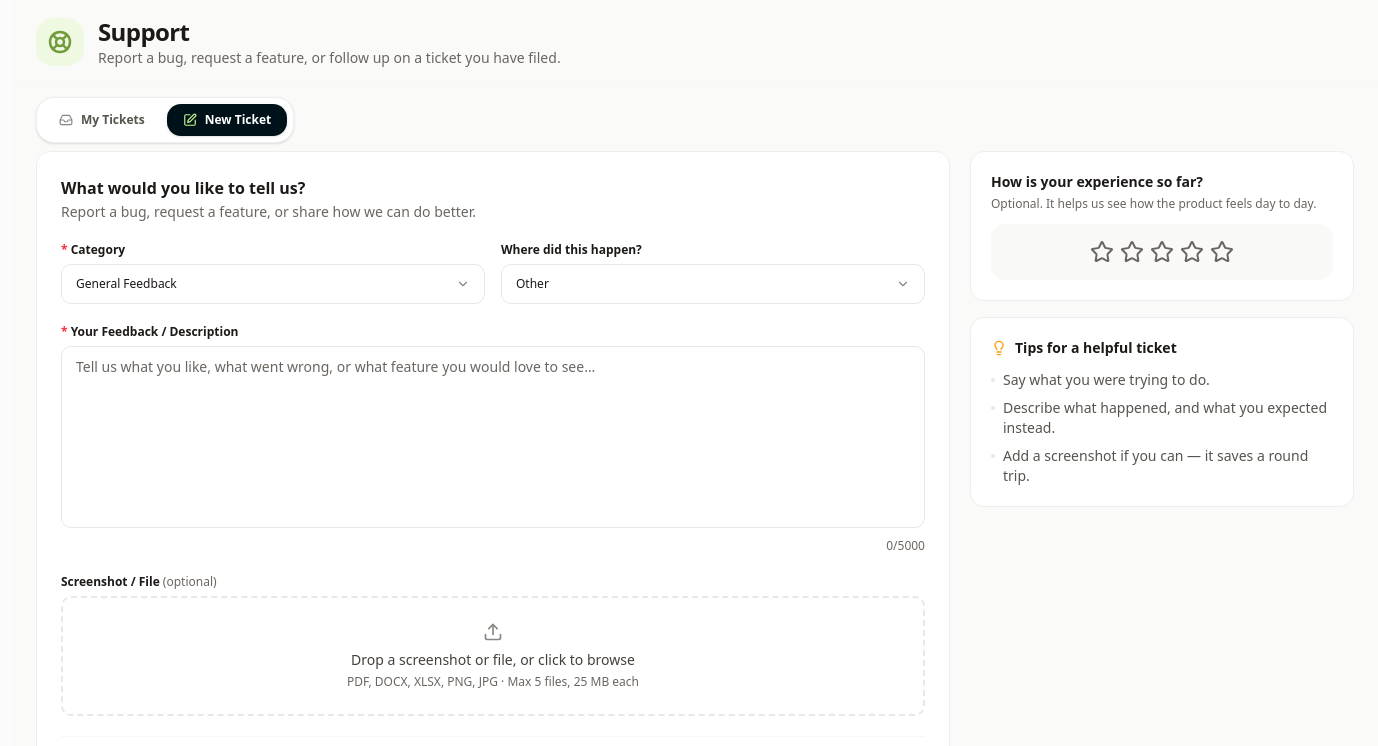
Test: SupportPage after filing a ticket › opens the ticket that was just filed
Type "Another problem" into the text box labelled "* Your Feedback / Description".
click(493, 437); type("Another problem")  # box [61,346,925,528]
(page scrolled)
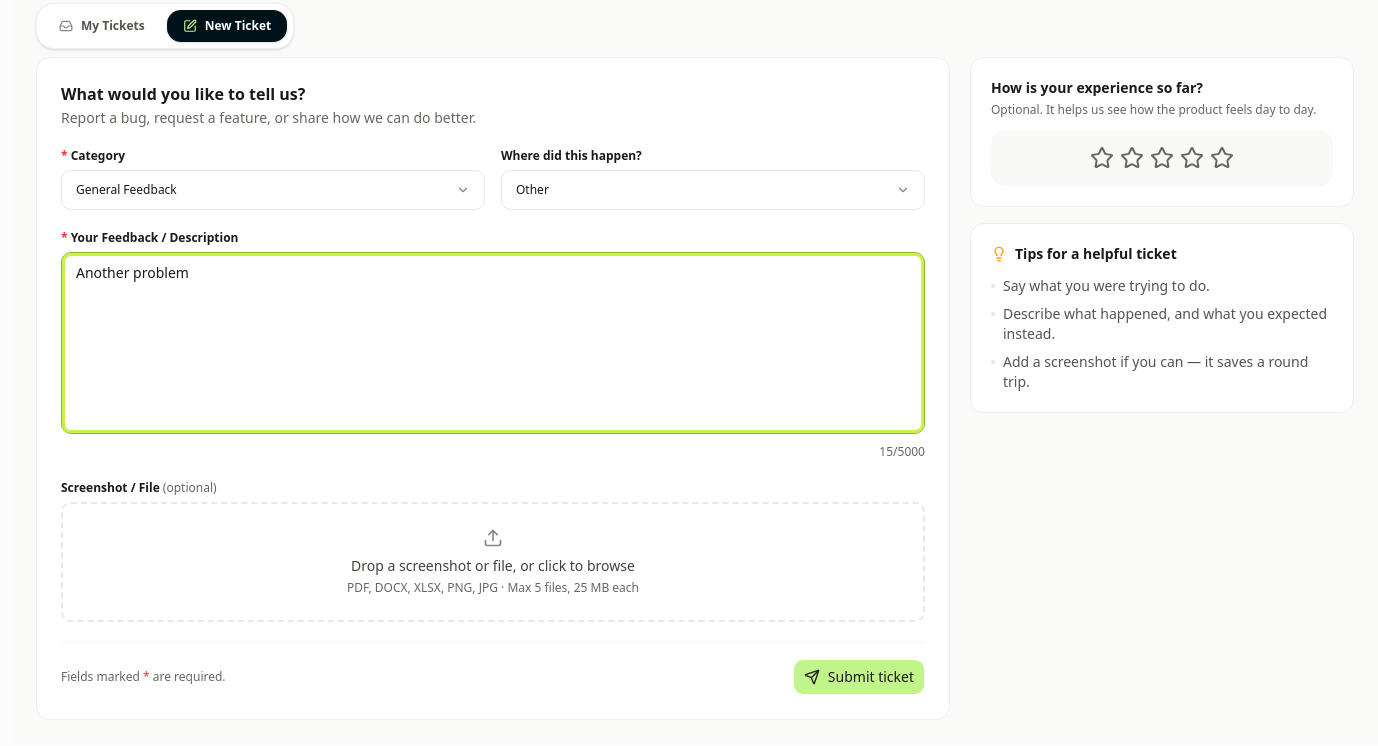
Click the button "Submit ticket".
click(859, 677)  # box [793,659,925,695]
(page scrolled)
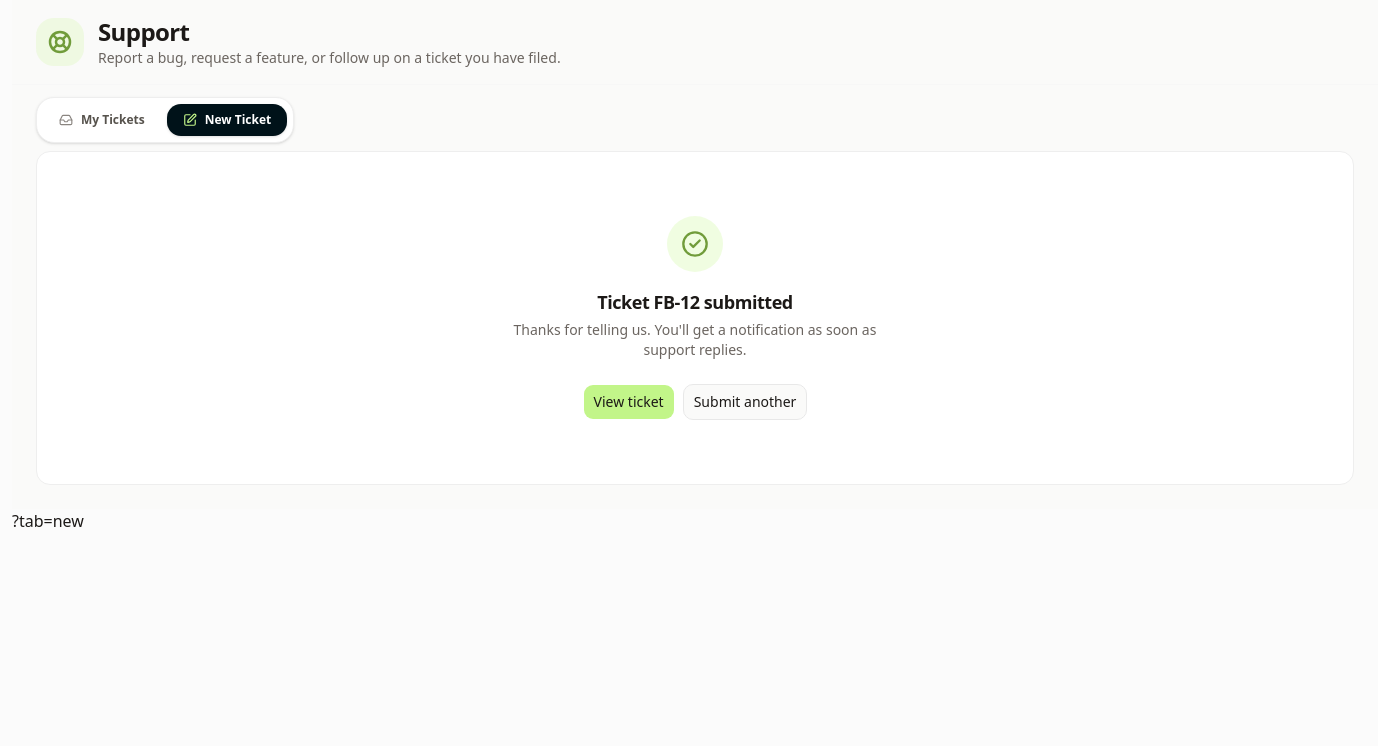
Expected: the heading "Ticket FB-12 submitted" is shown, [597,288,793,316]
Click the button "View ticket".
click(629, 402)  # box [583,384,675,420]
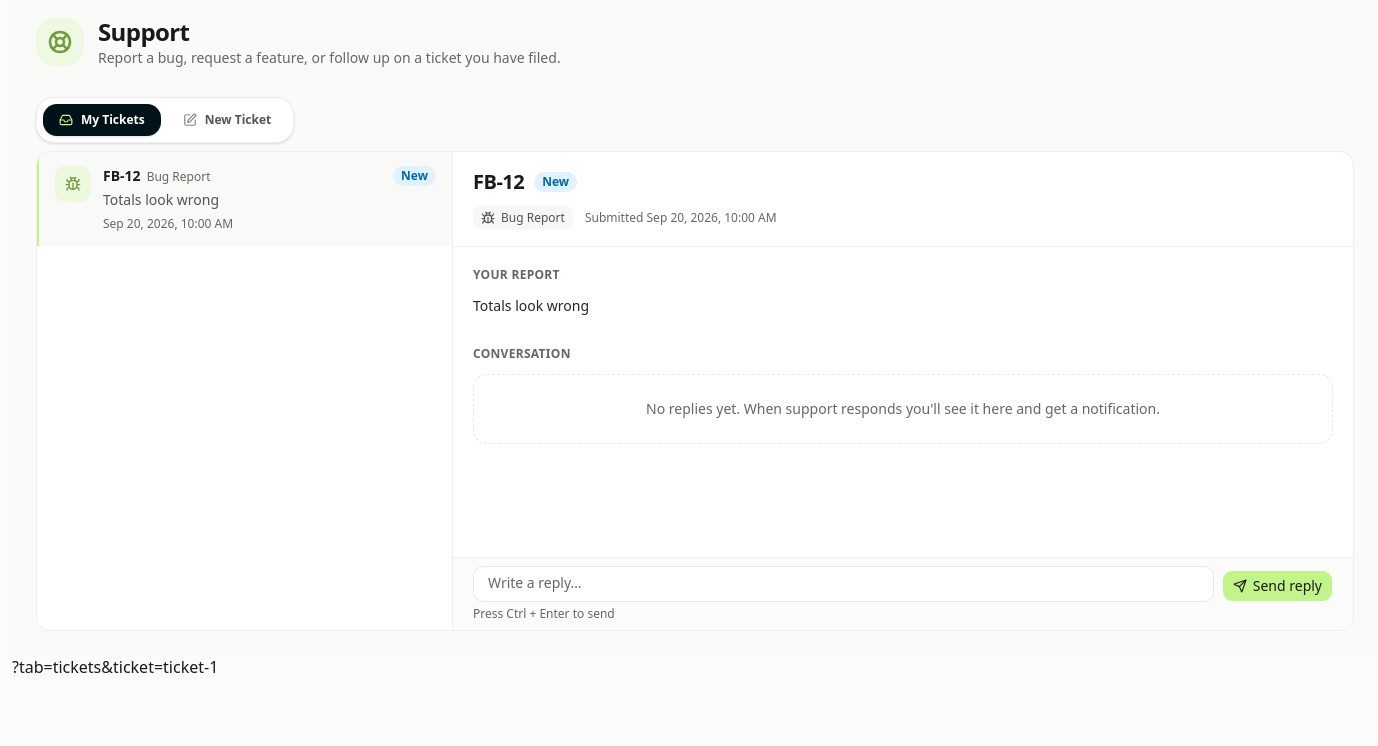
Expected: the text with test id "search" reads "?tab=tickets&ticket=ticket-1", [12,656,218,678]
Expected: the heading "FB-12" is shown, [473,168,524,196]
